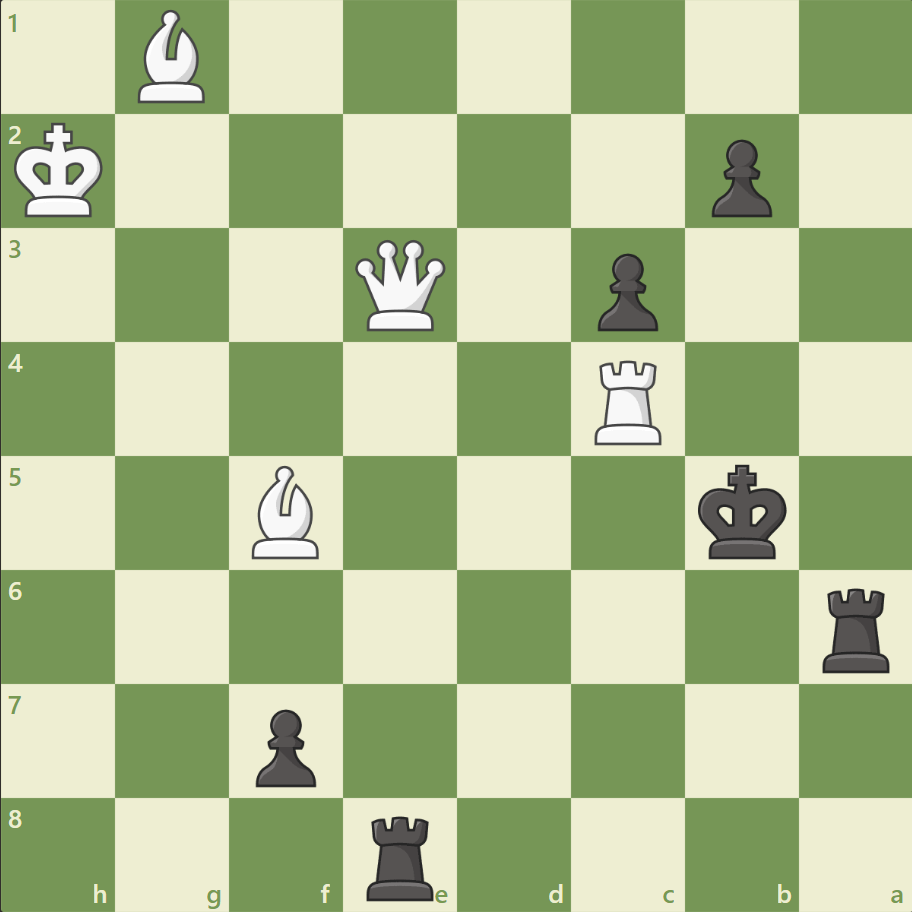B: (244, 460, 328, 563), (131, 6, 215, 109)
K: (11, 117, 111, 225)
Q: (351, 236, 450, 335)
R: (587, 352, 670, 449)
k: (692, 458, 792, 566)
p: (247, 700, 322, 791), (701, 132, 776, 223), (588, 246, 662, 337)
r: (814, 579, 897, 676), (360, 806, 442, 904)
